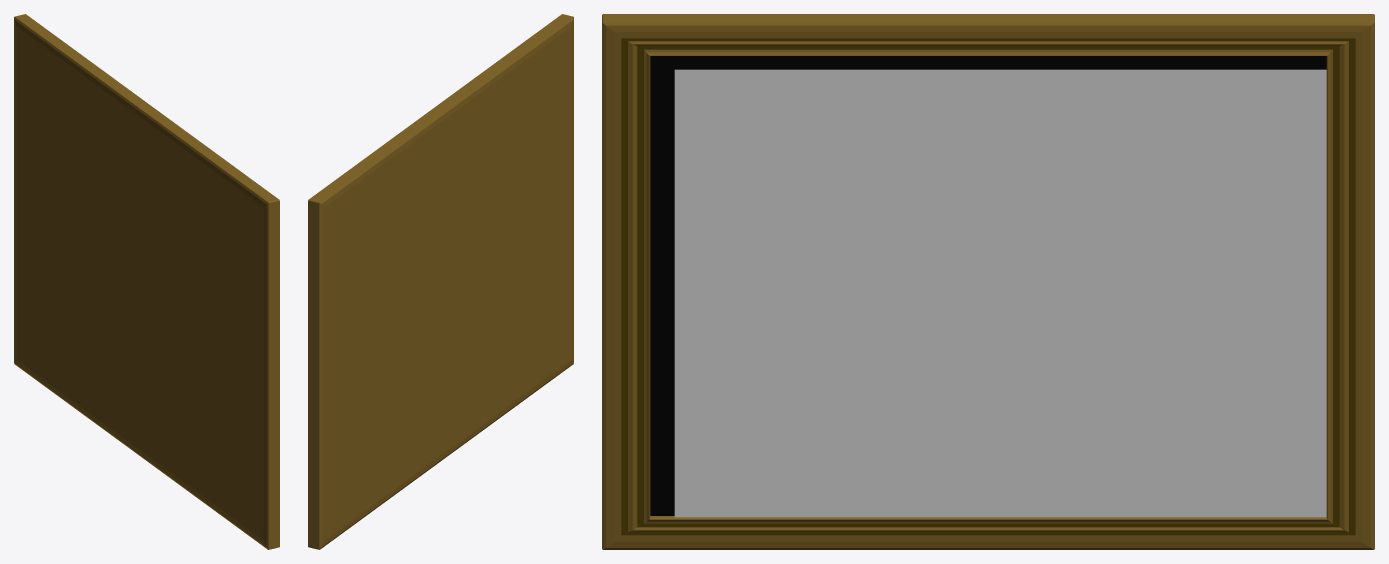
Rendered from FramesV1.fbx.
3 renders of one model, left to right at view 1: azimuth 30°, elevation 25°; view 2: azimuth 150°, elevation 25°; view 3: azimuth 270°, elevation 25°, orthographic. The views are drawn at different scales.
Visible parts, largest first — view 1: Cube; view 2: Cube; view 3: Divine_Council_Ripped, Cube, Cube.002, Cube.001.
Part boxes in pixels (x1,y1,x2,y2): Cube: [14, 14, 279, 549]; Cube: [308, 14, 573, 549]; Divine_Council_Ripped: [674, 69, 1326, 517]; Cube: [602, 14, 1374, 549]; Cube.002: [621, 38, 1355, 535]; Cube.001: [650, 56, 1326, 515].
Bounding box in the file's own units: 19.1 × 432 × 573.
